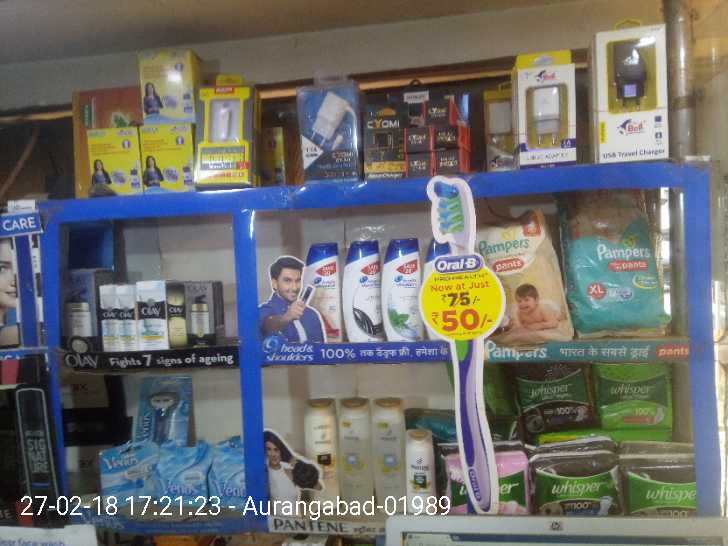venus: (96, 446, 157, 504), (136, 371, 187, 439), (157, 446, 208, 501), (208, 439, 250, 501)
